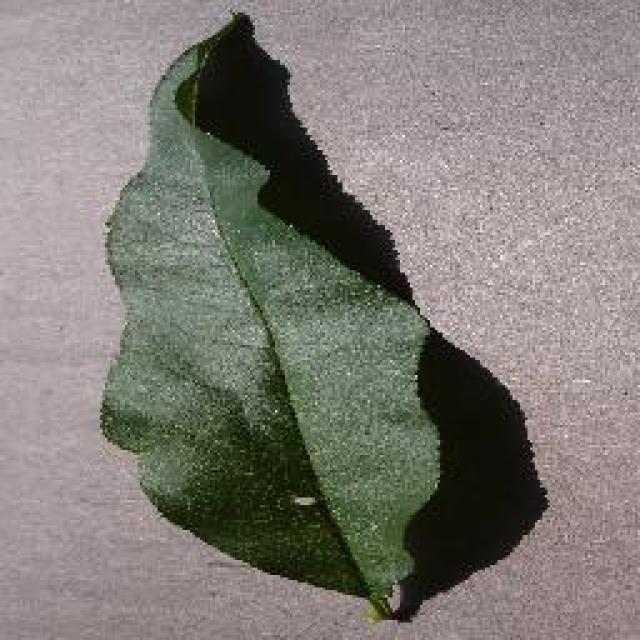Pea_healthy: (92, 84, 428, 548)
